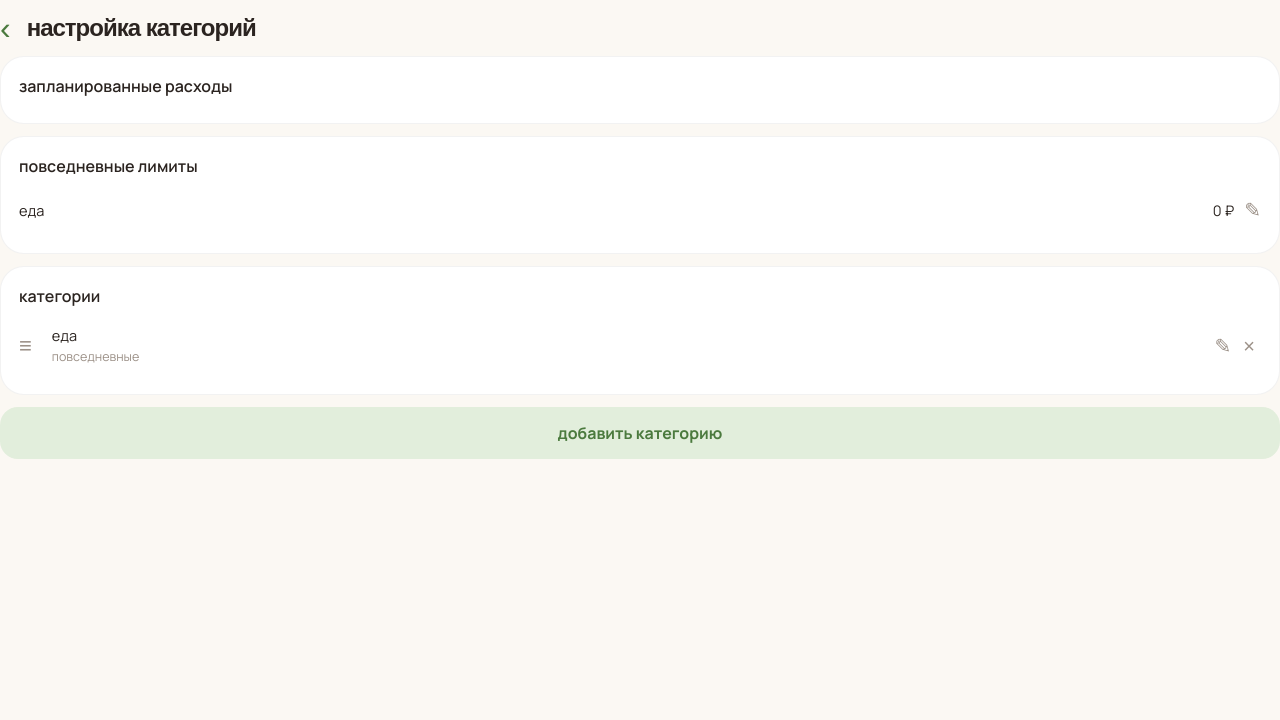
Test case: category settings UI › does not turn an untouched zero placeholder into a fixed limit
Click the button named "изменить лимит для категории еда".
click(1253, 210)  # box [1244,196,1261,224]
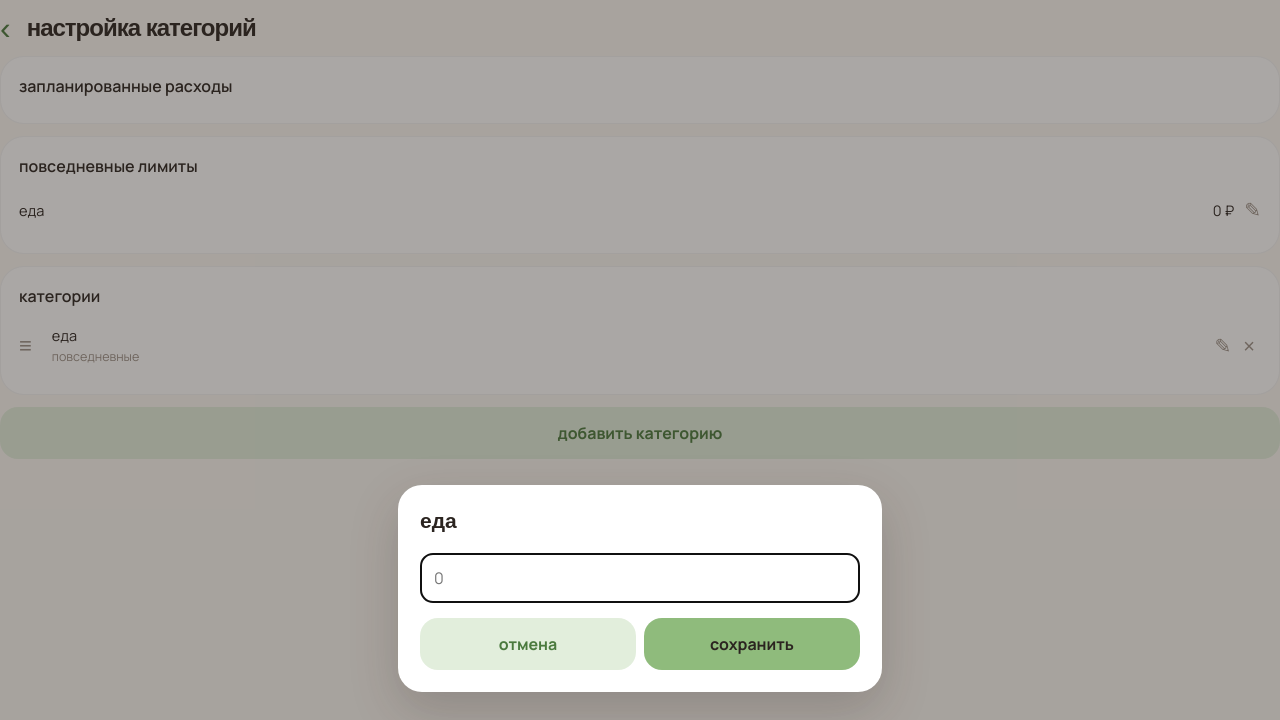
Click the button "сохранить".
click(752, 644)  # box [644,618,860,670]
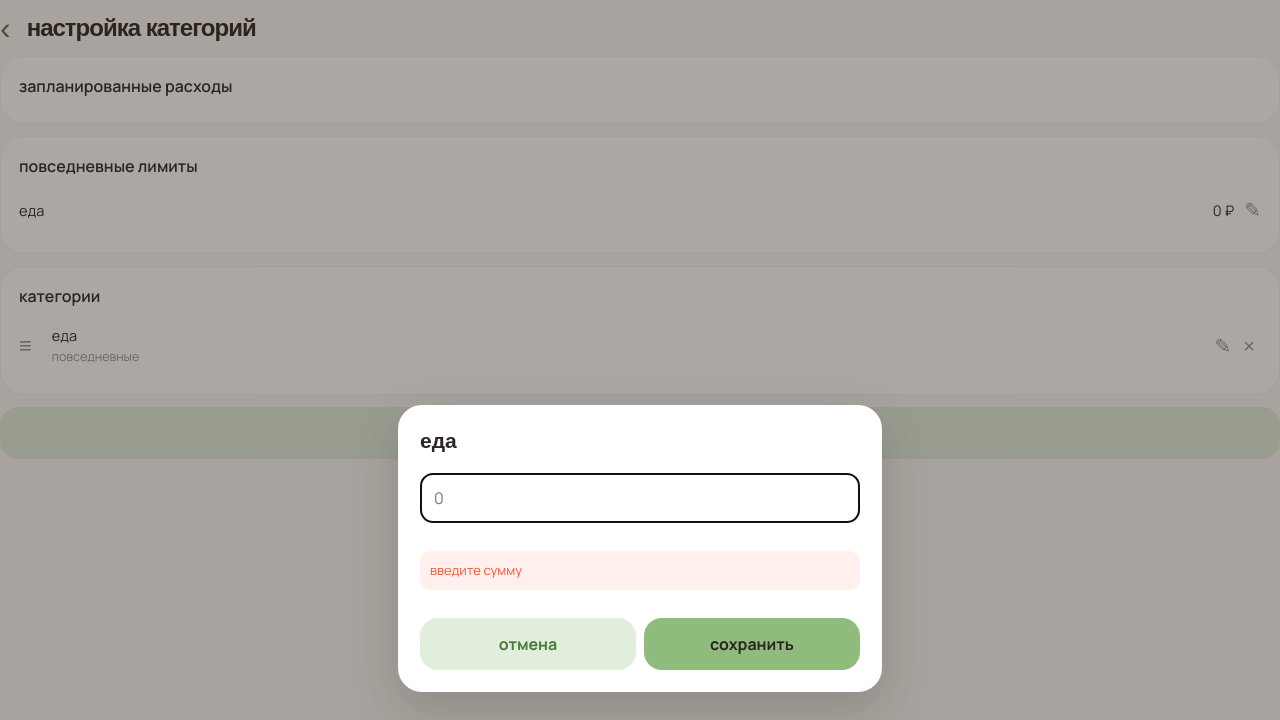
Check: the text "введите сумму" is shown, box [420,551,860,590]
